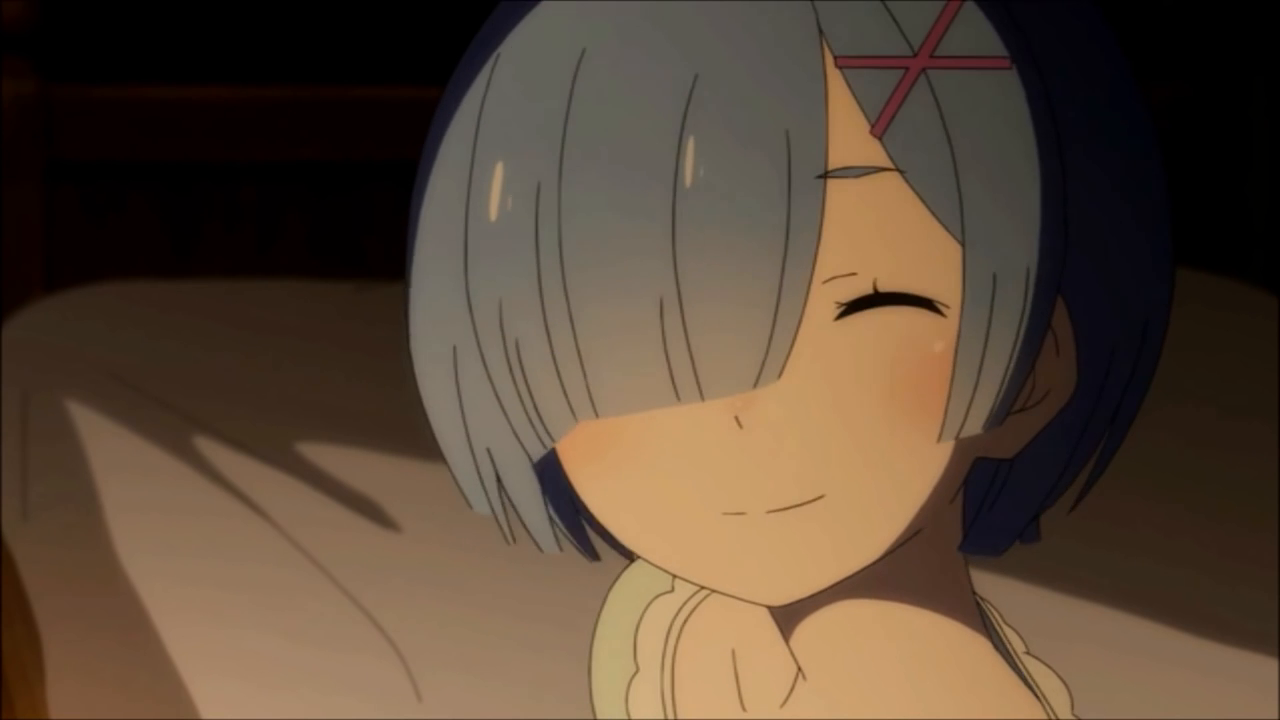REM: (399, 1, 1169, 611)
